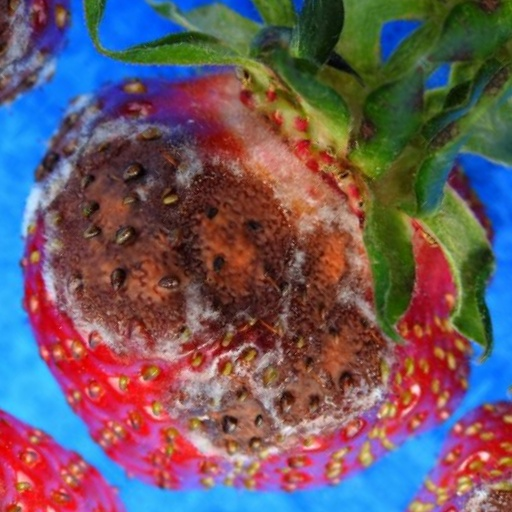Anthracnose Fruit Rot: (13, 67, 459, 388)
